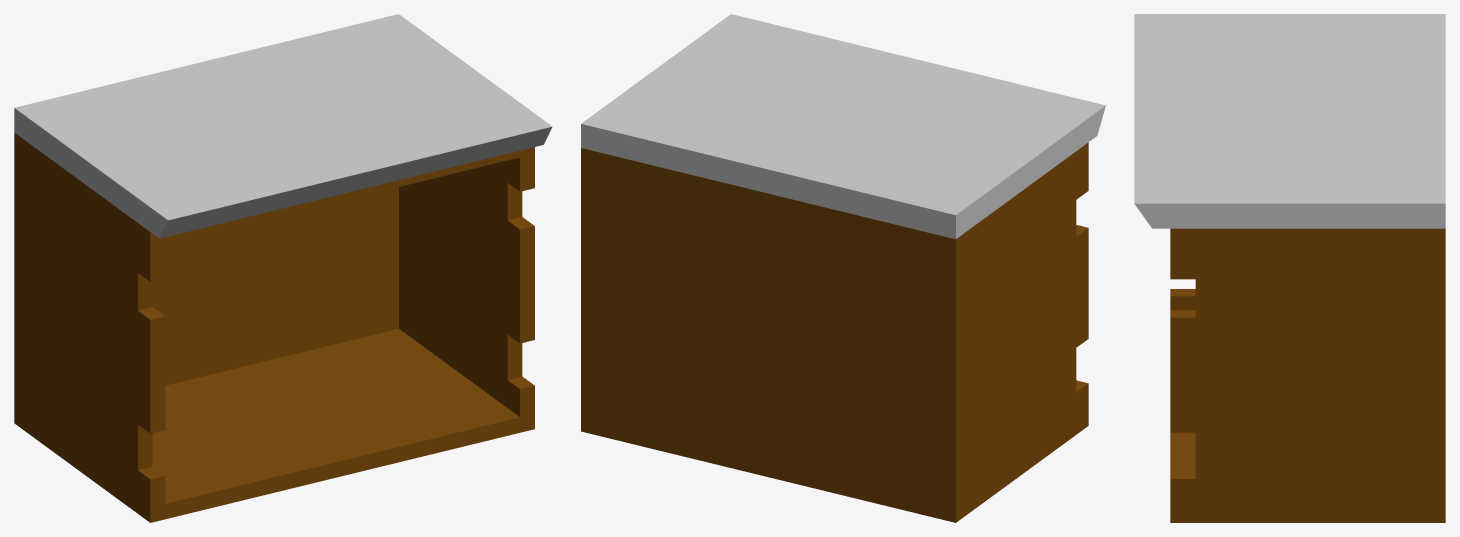
Rendered from High_Cupboard_Safe_Storage.fbx.
3 renders of one model, left to right at view 1: azimuth 30°, elevation 25°; view 2: azimuth 150°, elevation 25°; view 3: azimuth 270°, elevation 25°, orthographic. The views are drawn at different scales.
Visible parts, largest first — view 1: Cube.130; view 2: Cube.130; view 3: Cube.130.
Boxes of the visible parts, left/top/right/bottom form: Cube.130: left=14, top=14, right=552, bottom=522; Cube.130: left=581, top=14, right=1105, bottom=522; Cube.130: left=1134, top=14, right=1445, bottom=522.
Size of the model in its own units: 101 by 78.82 by 69.68.
